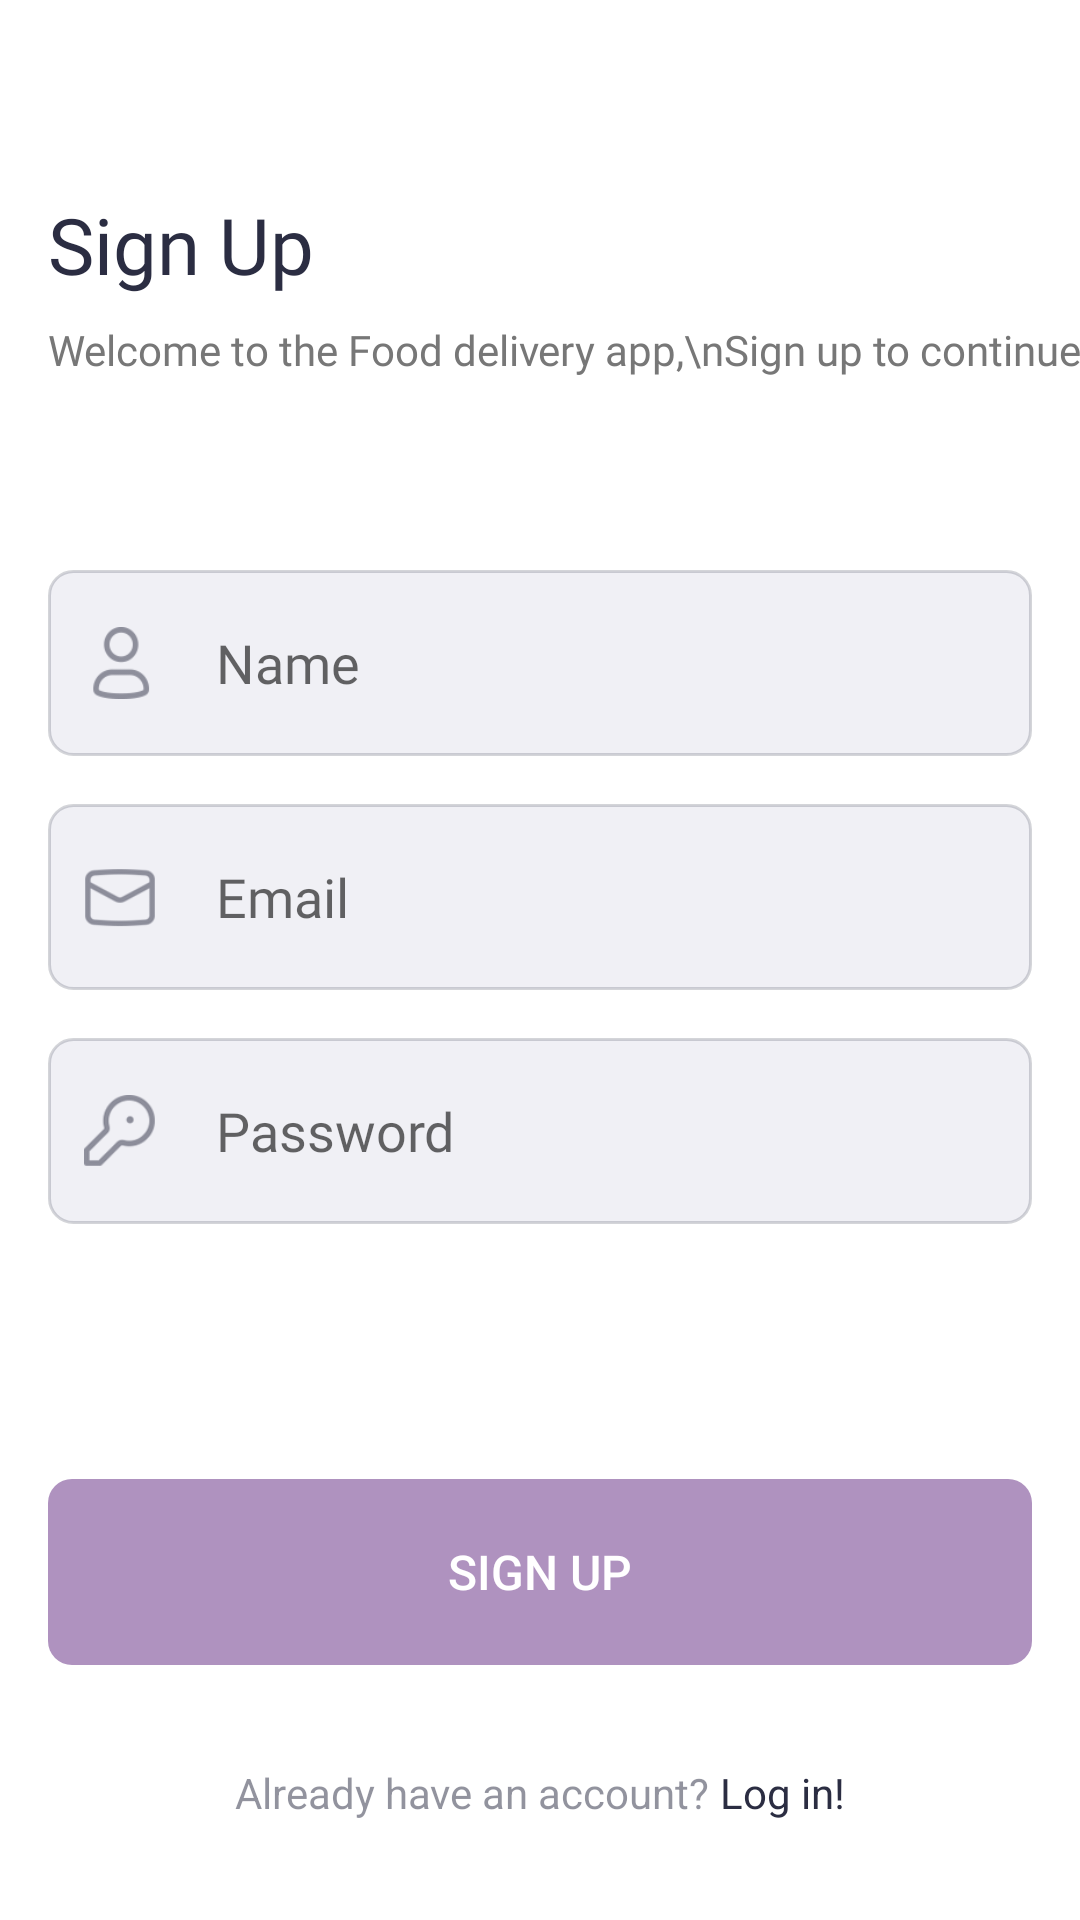

Screen size 1080*1920. Icon name, then its box in pixels as {"left": x1, "top": y1, "right": x2, "bottom": y2}:
person: {"left": 93, "top": 627, "right": 149, "bottom": 699}
